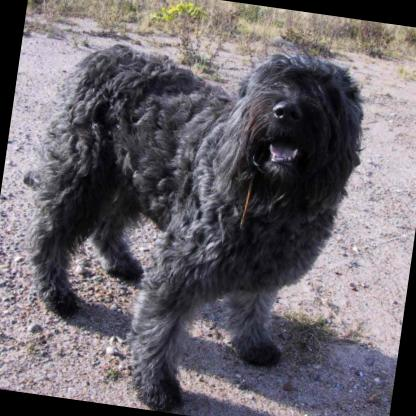Bouvier_des_Flandres: (0, 17, 376, 416)
